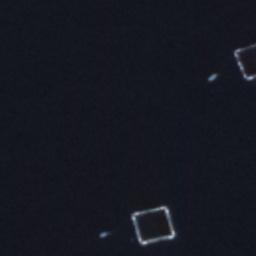square_solid: (127, 202, 179, 248), (232, 40, 256, 85)
